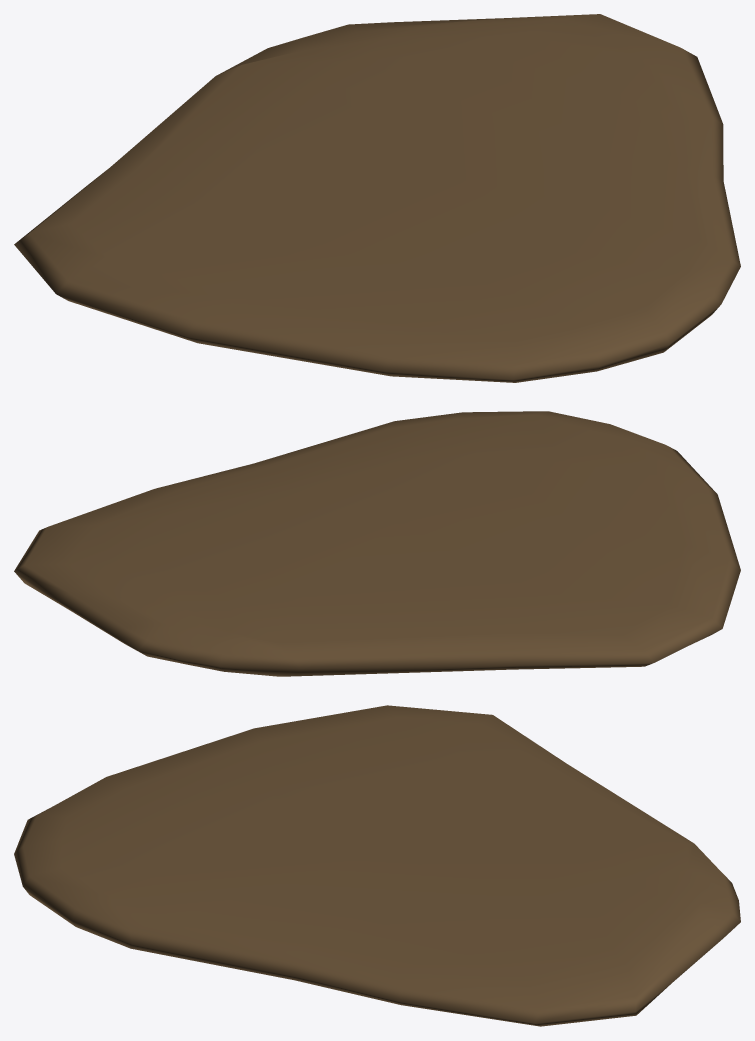
Rendered from Dirt Patch Small.fbx.
3 views of the same model, one above another, from view 1: azimuth 30°, elevation 25°; view 2: azimuth 150°, elevation 25°; view 3: azimuth 270°, elevation 25° (orthographic). The views are drawn at different scales.
Visible parts, largest first — view 1: pCube139; view 2: pCube139; view 3: pCube139.
Part boxes in pixels (x1=…): pCube139: x1=14, y1=14, x2=740, y2=382; pCube139: x1=14, y1=411, x2=740, y2=676; pCube139: x1=14, y1=705, x2=740, y2=1026.
Bounding box in the file's own units: 62.45 × 4.43 × 60.98.
